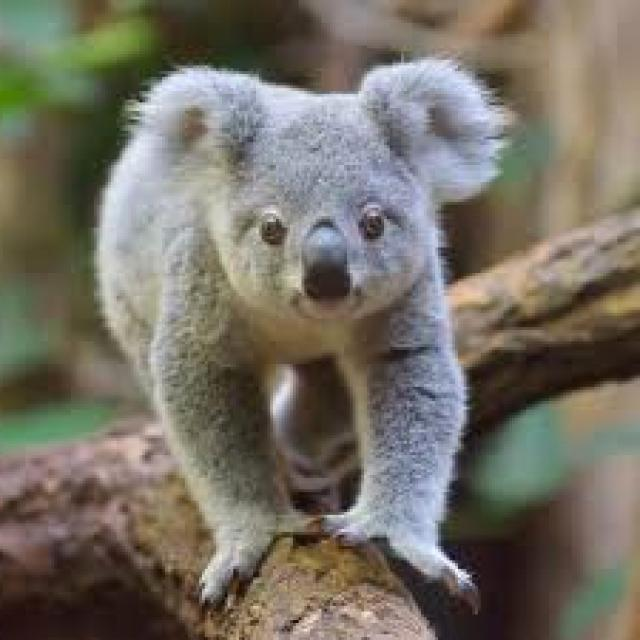koala: (100, 57, 512, 606)
